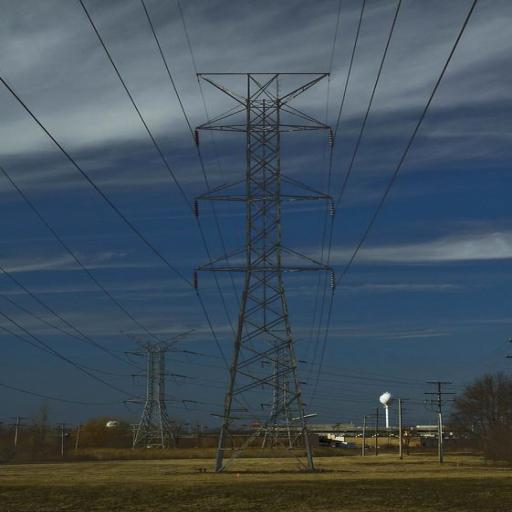mono_9: (422, 380, 461, 462)
ss_3: (190, 71, 340, 474), (118, 331, 196, 460)
